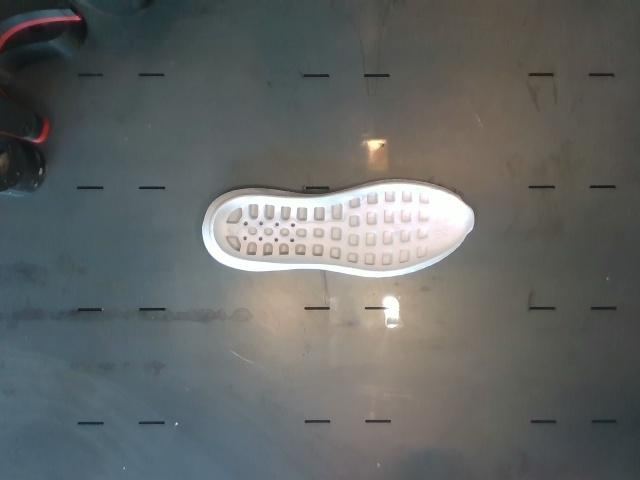shoes: (214, 184, 473, 272)
